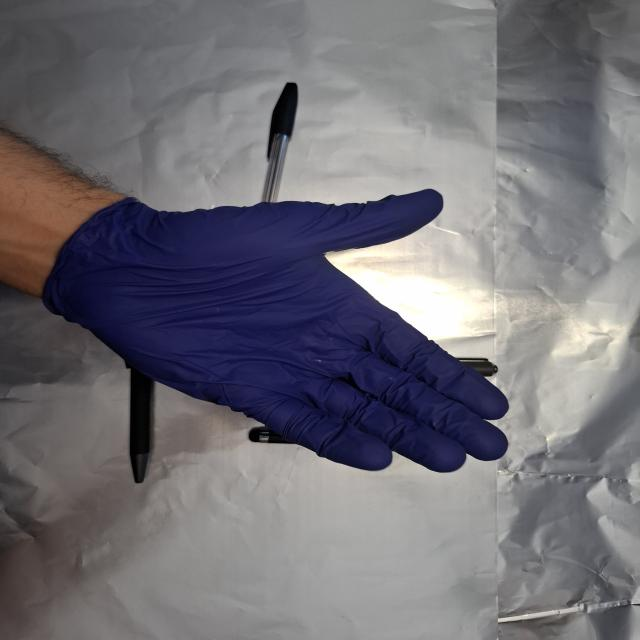glove_on: (40, 182, 512, 476)
